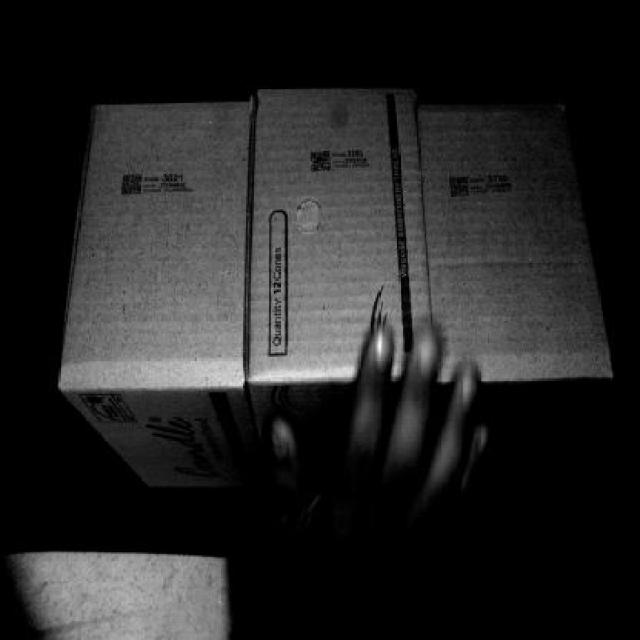cardboxes: (422, 89, 610, 374), (70, 109, 248, 382), (261, 85, 408, 382)
